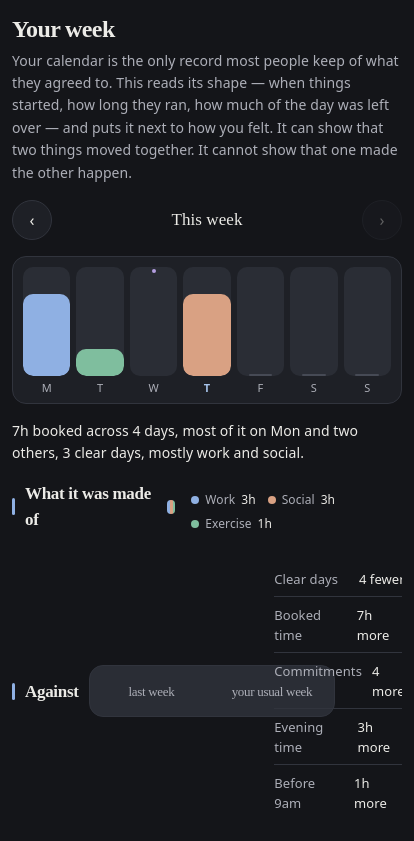
the week › opens a day and lists what was on it
Click the button named "Mon: 3h": (47, 330) [23, 267, 70, 393]
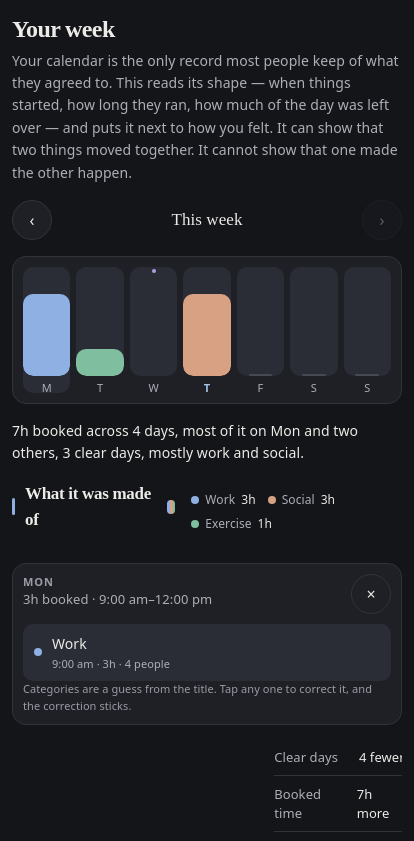
Expected: the text "3h booked · 9:00 am–12:00 pm" is shown, [23, 590, 212, 610]
Expected: the text "9:00 am · 3h · 4 people" is shown, [52, 656, 170, 671]
